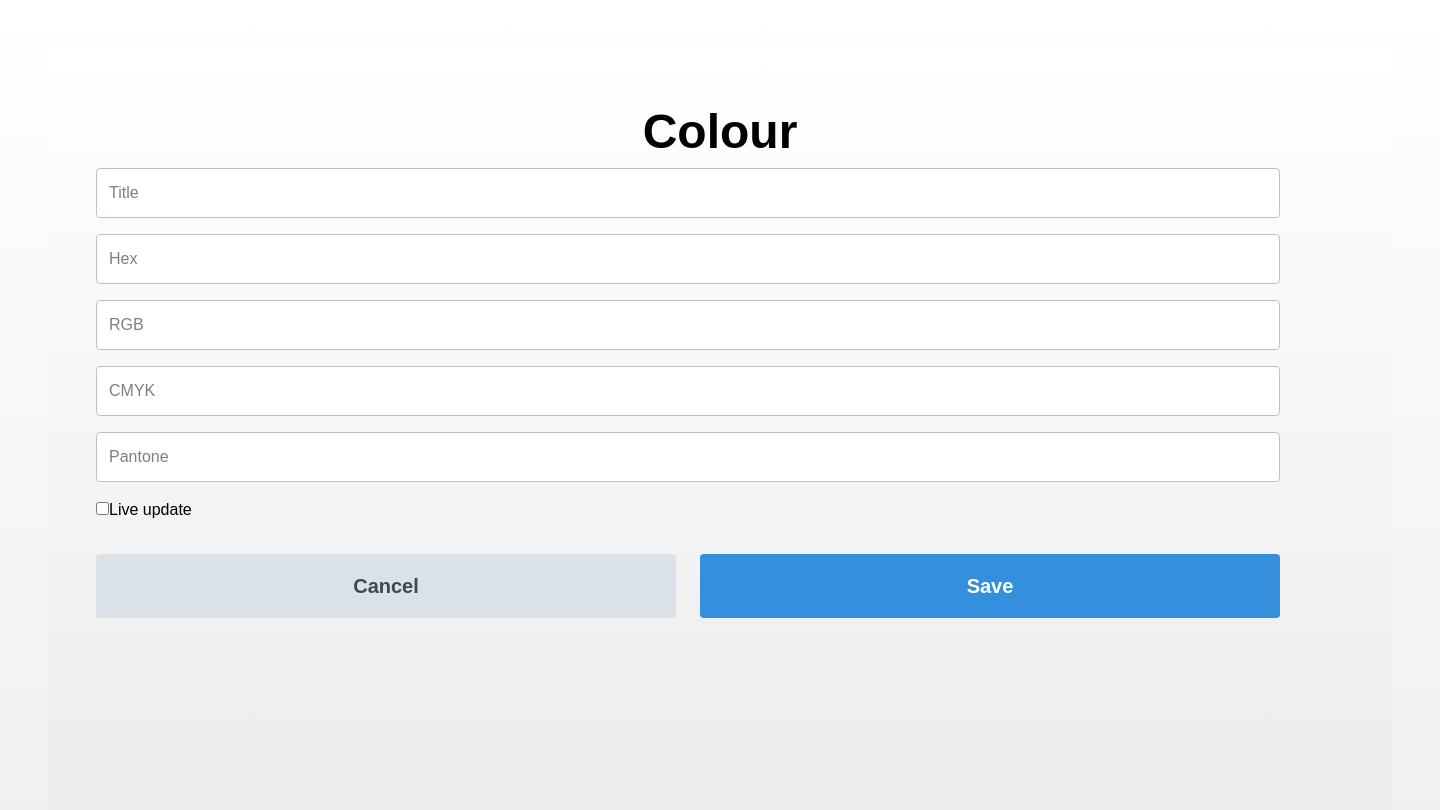
Test: ColourPaletteEditor.vue › displays validation errors
Click the button with id "save" at point(990, 586), box [700,554,1280,618]
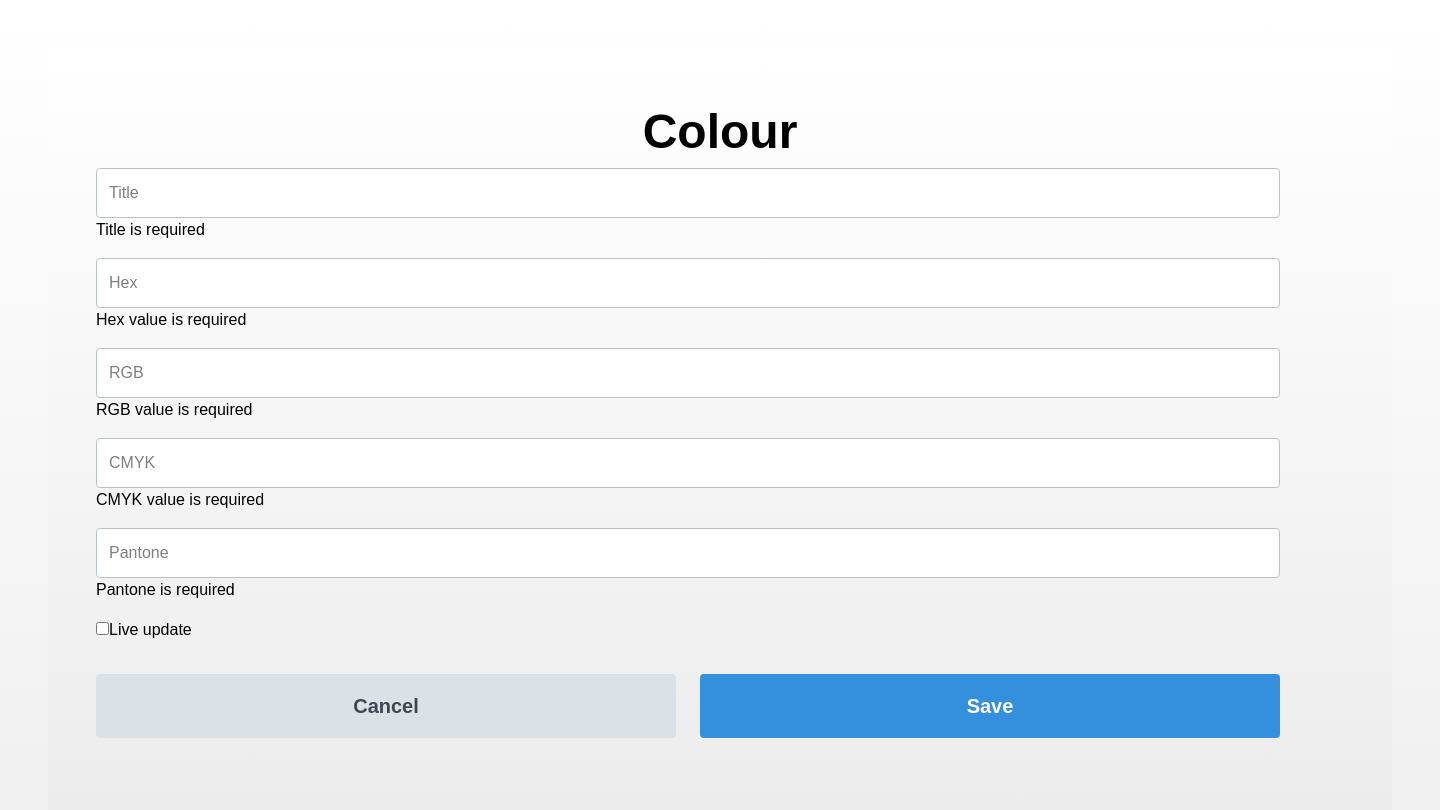
Result: the text "Title is required" is shown at [96,221,205,238]
Result: the text "Hex value is required" is shown at [96,311,246,328]
Result: the text "RGB value is required" is shown at [96,401,252,418]
